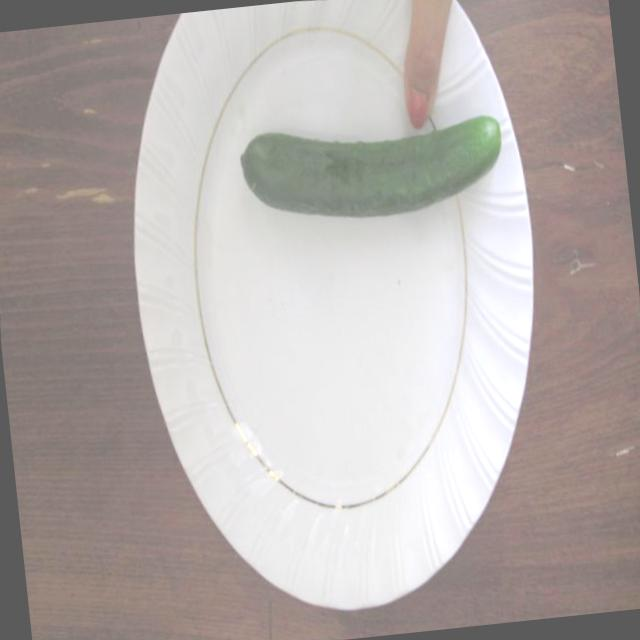Cucumber: (228, 91, 513, 243)
Finger: (384, 15, 452, 130)
